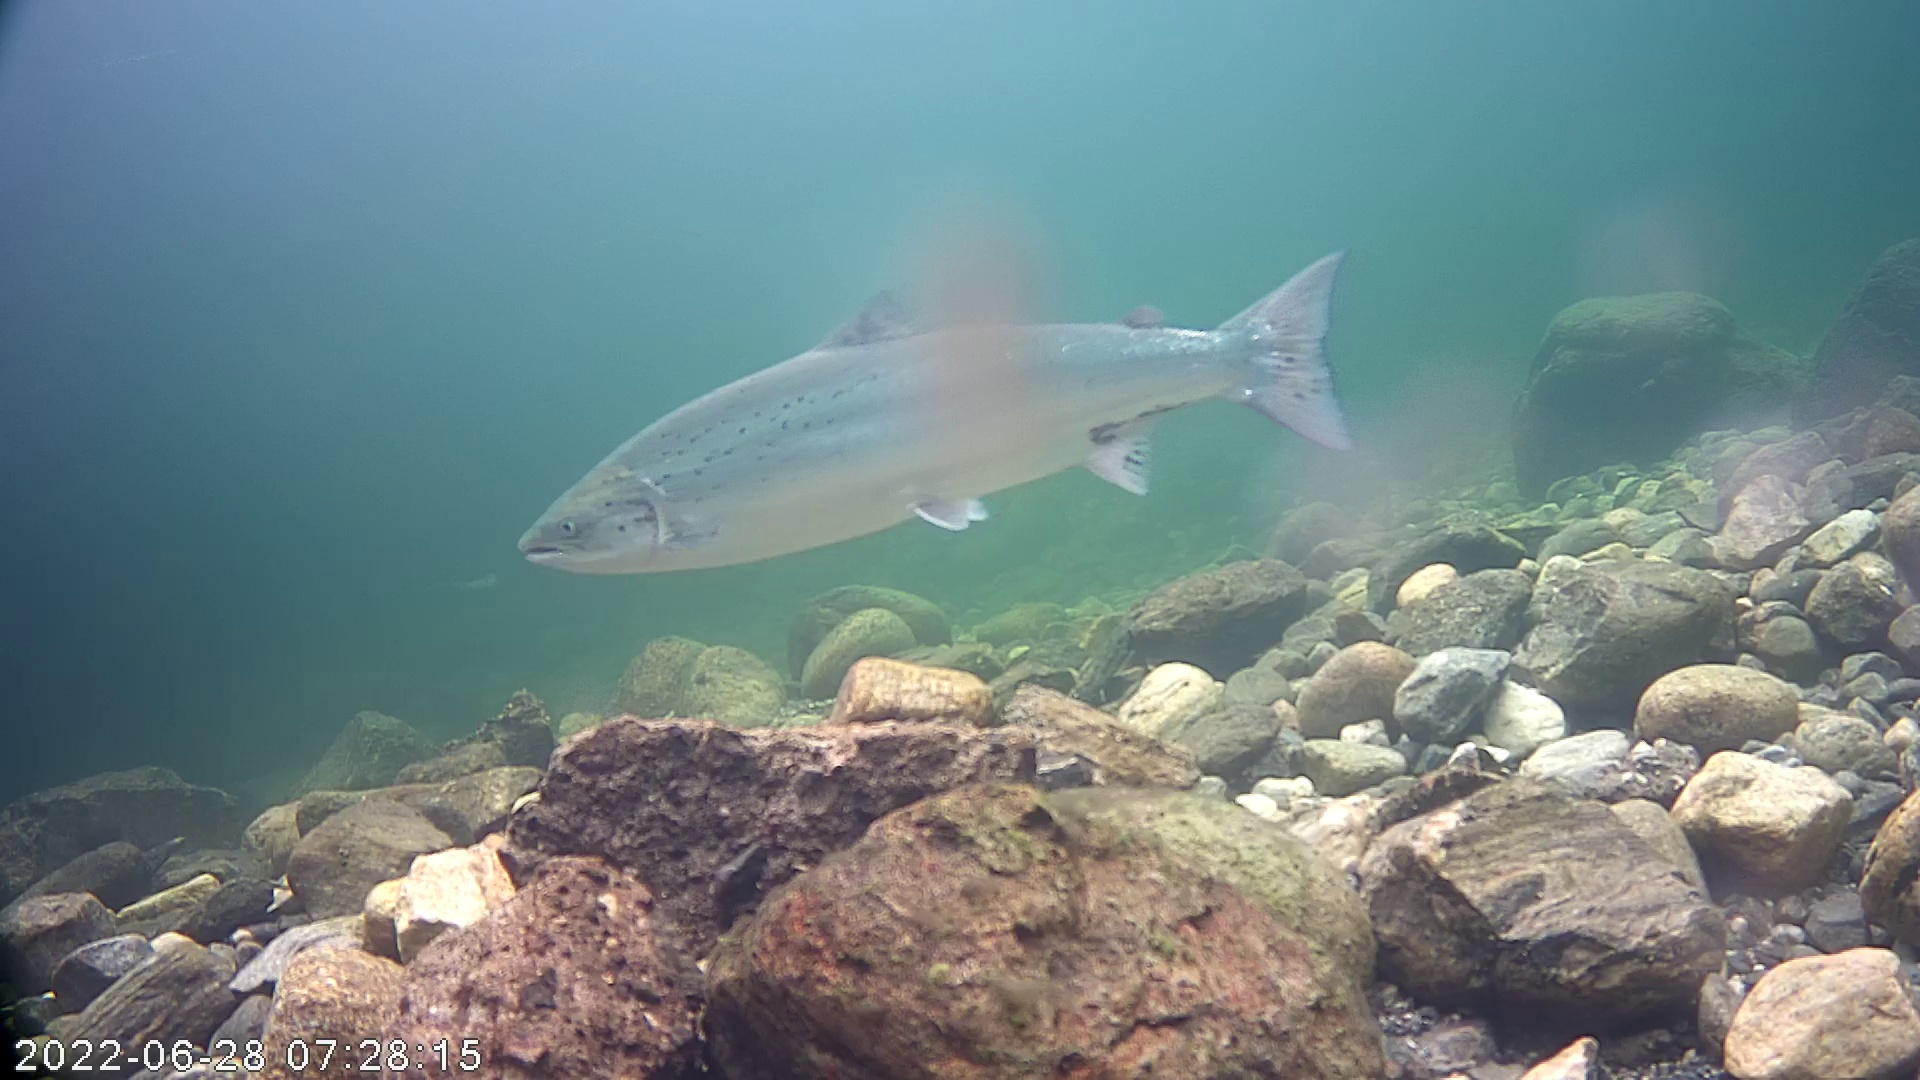salmon: (517, 164, 1389, 625)
